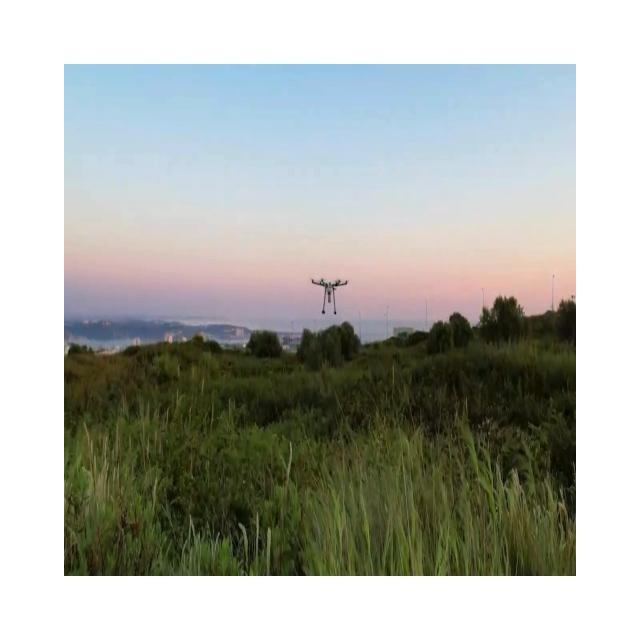drone: (310, 276, 348, 314)
